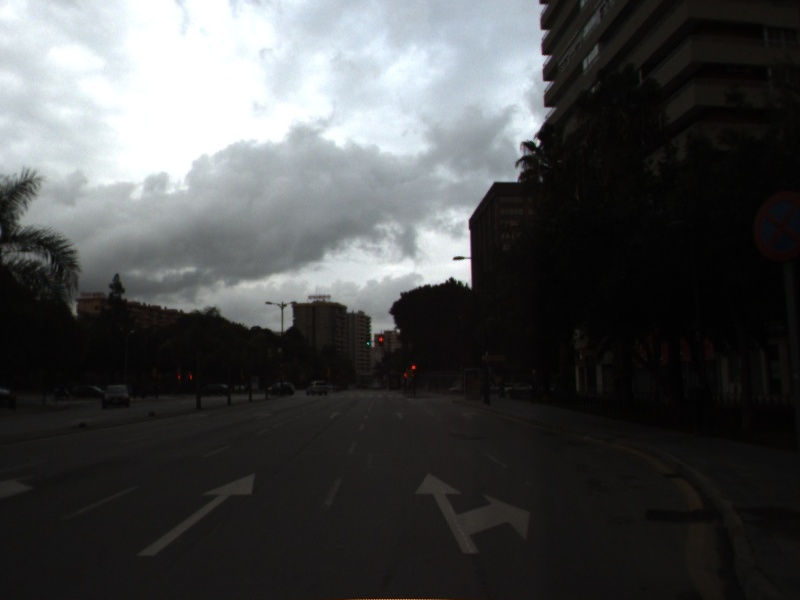LEFT: (251, 410, 274, 421)
RIGHT: (459, 409, 481, 421)
STRAIGHT: (132, 470, 260, 560), (390, 410, 408, 421), (326, 410, 344, 421)
STRAIGHT_RIGHT: (411, 469, 533, 557)
